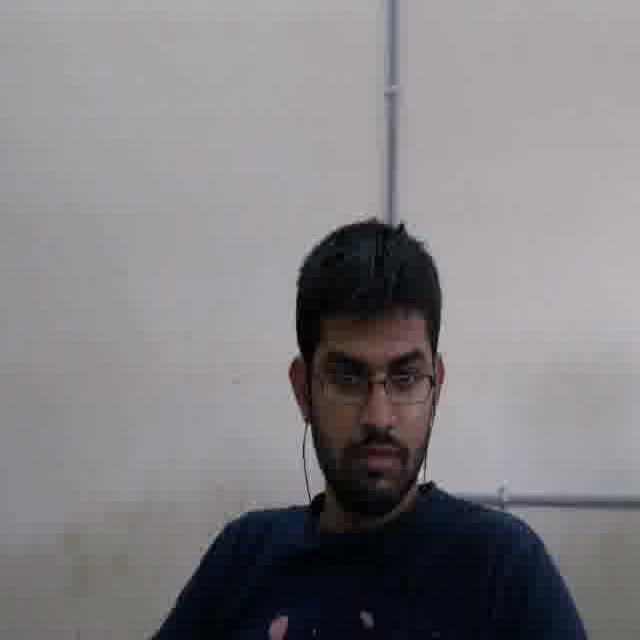Engaged: (310, 308, 430, 504)
